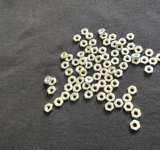nut: (130, 121, 141, 132), (127, 86, 138, 96), (131, 109, 142, 119), (105, 102, 115, 113), (44, 103, 54, 114), (124, 102, 134, 113), (114, 99, 124, 109), (97, 92, 107, 102), (84, 91, 94, 100), (106, 93, 116, 102), (55, 98, 64, 108), (145, 65, 154, 74), (120, 62, 129, 71), (111, 79, 120, 88), (93, 63, 102, 72), (64, 83, 73, 92), (48, 86, 57, 95), (123, 94, 132, 103), (140, 56, 149, 65), (111, 57, 120, 66), (48, 78, 57, 87), (104, 85, 113, 94), (98, 80, 107, 89), (91, 84, 100, 93), (115, 43, 124, 52), (76, 77, 85, 86), (61, 92, 70, 101), (145, 49, 155, 57), (70, 93, 80, 101), (104, 74, 114, 82), (123, 55, 133, 63), (101, 53, 110, 61), (108, 33, 117, 41), (93, 73, 102, 81), (65, 68, 74, 76), (72, 58, 80, 67), (79, 69, 88, 77), (149, 58, 158, 66), (121, 48, 130, 56), (44, 76, 52, 85), (115, 70, 124, 78), (73, 84, 81, 93), (103, 61, 112, 69), (65, 54, 74, 62), (73, 34, 81, 42), (91, 47, 99, 55), (127, 33, 135, 41), (135, 46, 143, 54), (83, 83, 91, 91), (119, 38, 127, 46), (81, 28, 89, 36), (89, 39, 97, 47), (80, 40, 88, 48), (108, 67, 116, 75), (85, 62, 93, 70), (111, 50, 120, 57), (99, 47, 107, 54), (128, 43, 136, 50), (111, 41, 119, 48), (103, 39, 111, 46), (85, 46, 92, 54), (88, 54, 96, 61), (95, 56, 103, 63), (61, 52, 68, 60), (61, 62, 69, 69), (80, 57, 87, 65), (76, 66, 84, 73), (85, 77, 94, 83), (132, 59, 141, 65), (101, 69, 108, 76), (86, 33, 94, 39), (98, 29, 106, 35), (100, 33, 108, 39), (77, 52, 85, 58), (132, 54, 141, 59), (156, 54, 160, 62)
